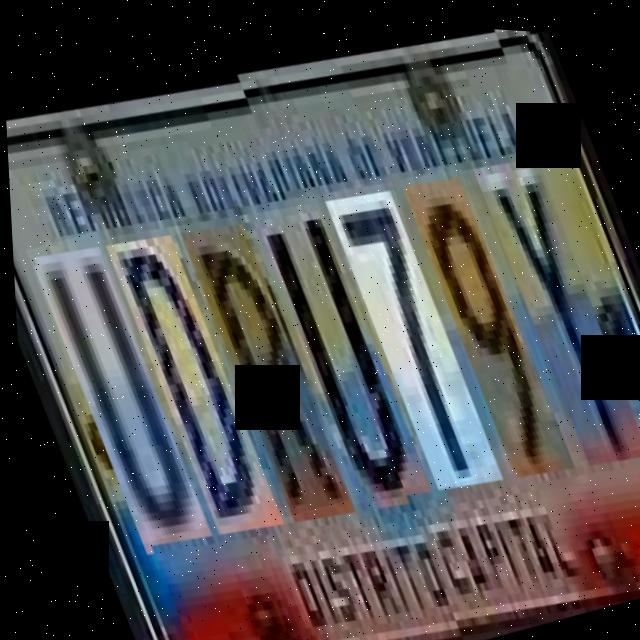7: (319, 169, 495, 488)
9: (398, 155, 566, 472)
D: (98, 212, 273, 532)
R: (173, 199, 345, 517)
U: (241, 182, 423, 504), (23, 226, 202, 548)
Y: (466, 131, 640, 458)
